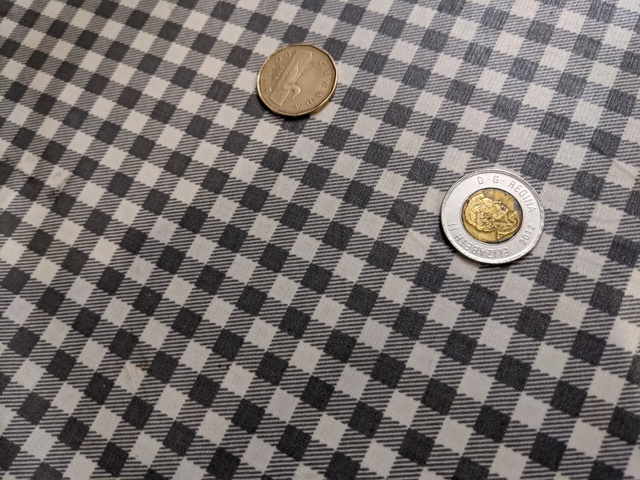loonie: (257, 41, 346, 118)
twonie: (430, 156, 552, 275)
